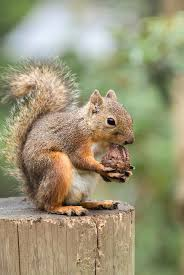squirrel: (10, 62, 137, 215)
